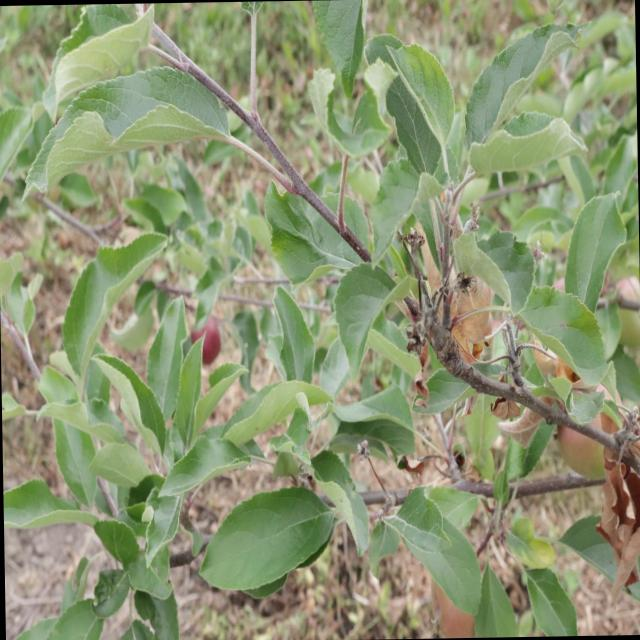-FireBlight-: (585, 411, 640, 602), (487, 375, 566, 451), (413, 320, 431, 414)
